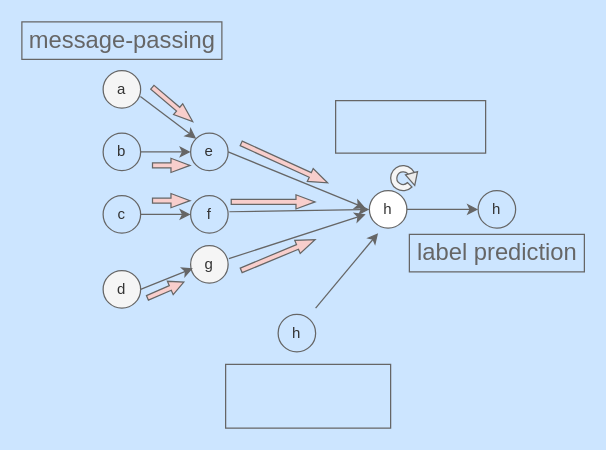
Image size: 606x450. Some labels were removed from this diagram. The shapes that lost their labels are listed below. From the top down, each one's box as (x1, y1, x2, y2) in pixels, then its label:
(334, 99, 486, 153): node feature update
(224, 363, 391, 428): initial node representation
